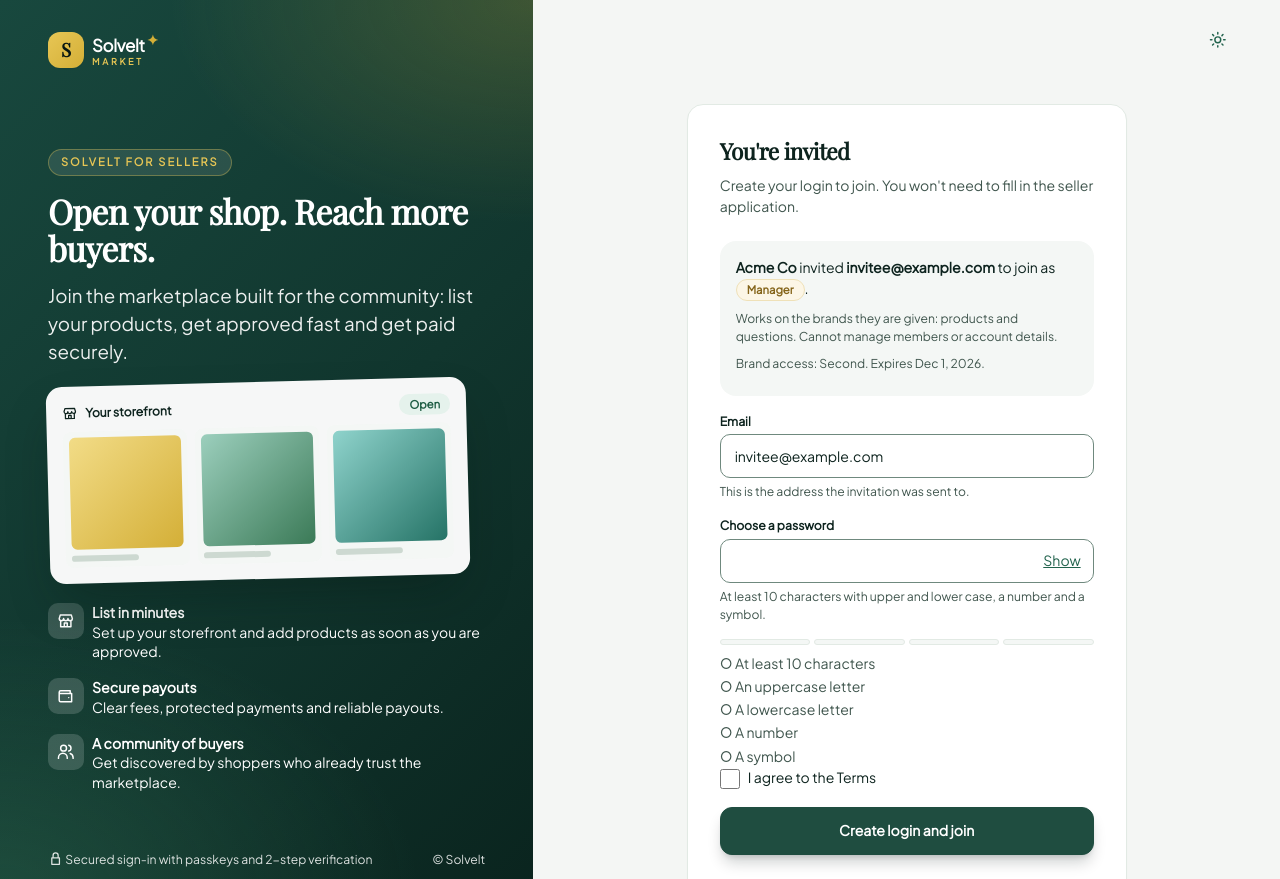
Test: invitation pages › signed out: existing login is sent to sign in and back; decline is possible
Type "Tr1cky-Horse-Battery!" into the password field labelled "Choose a password" at (907,561), box [720,539,1094,583]
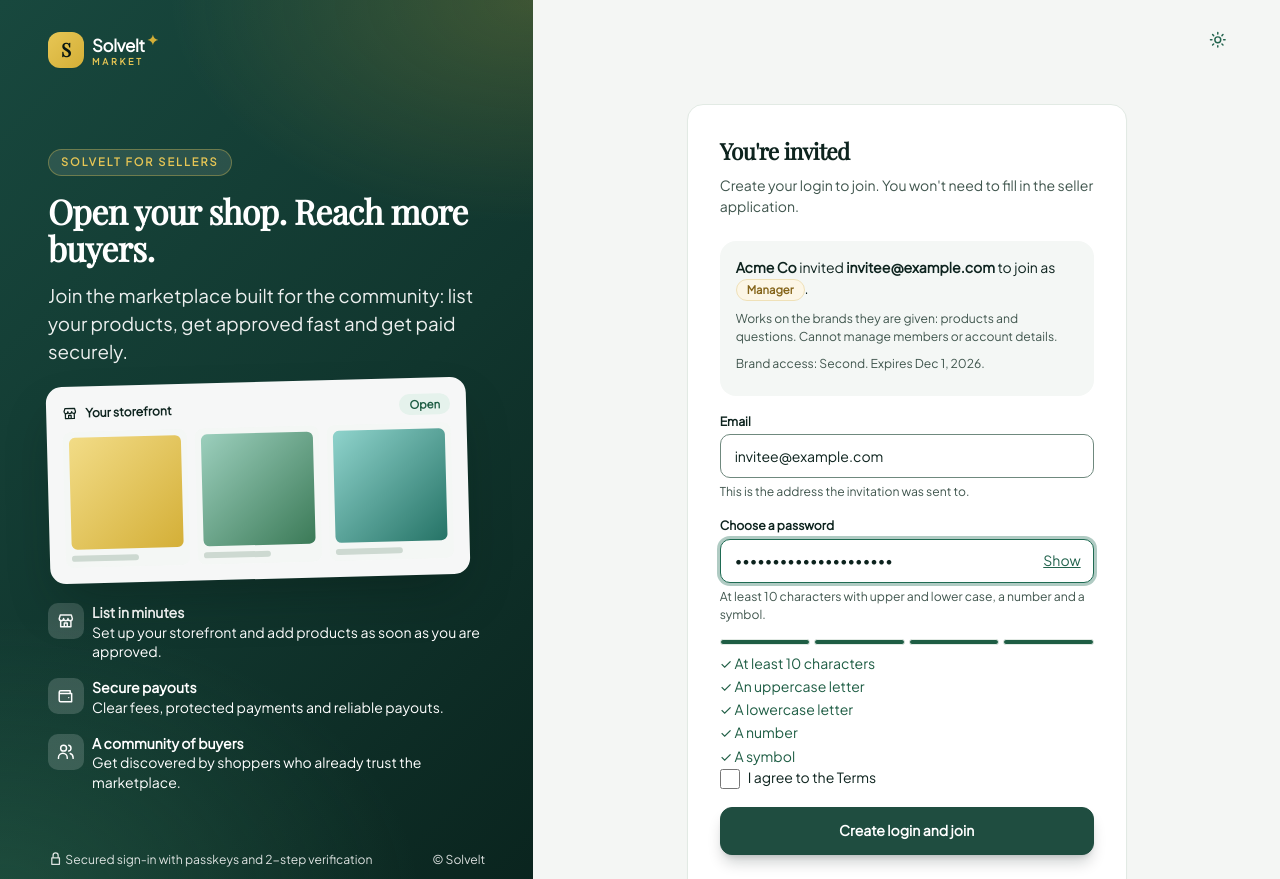
Click the checkbox labelled "I agree to the Terms" at (730,779), box [720,769,740,789]
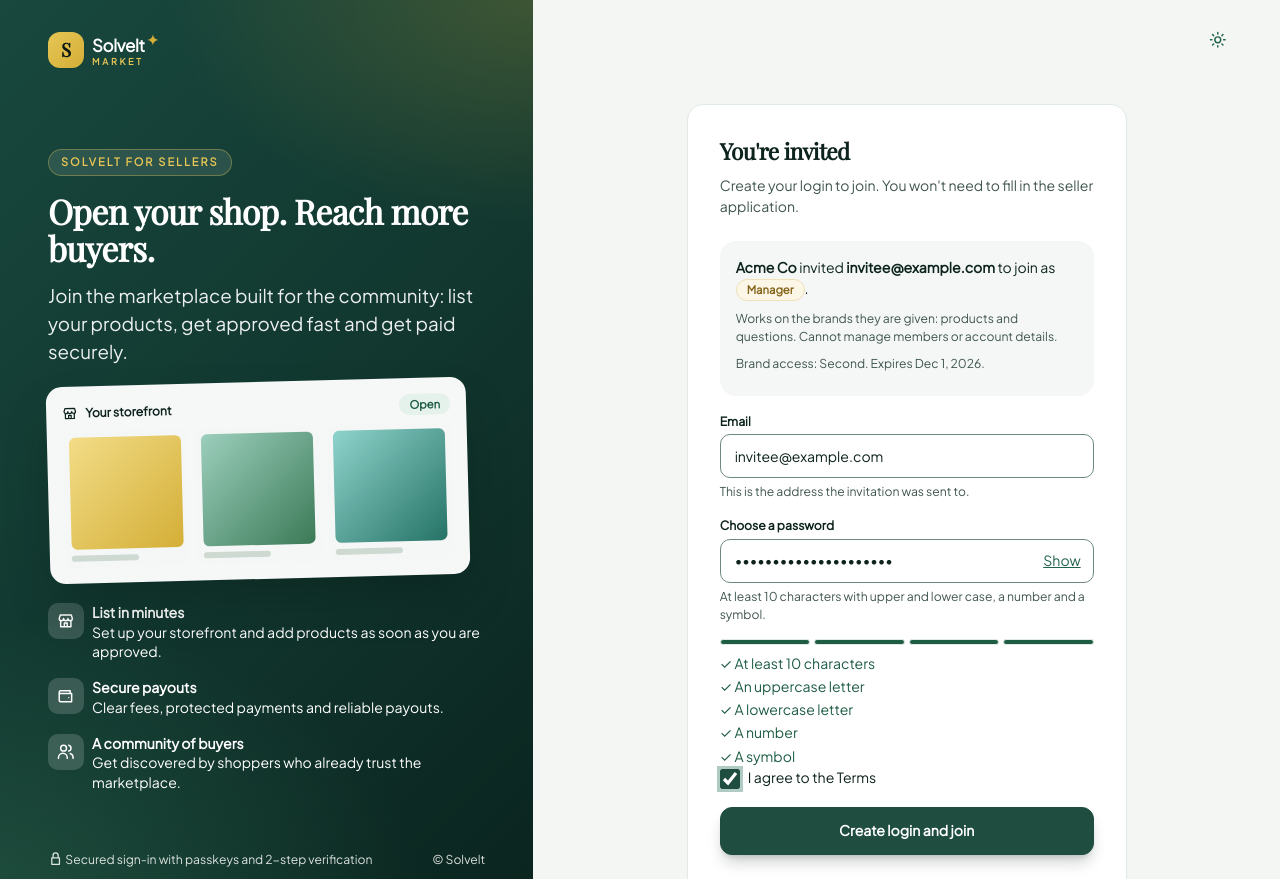
Click the button "Create login and join" at (907,831), box [720,807,1094,855]
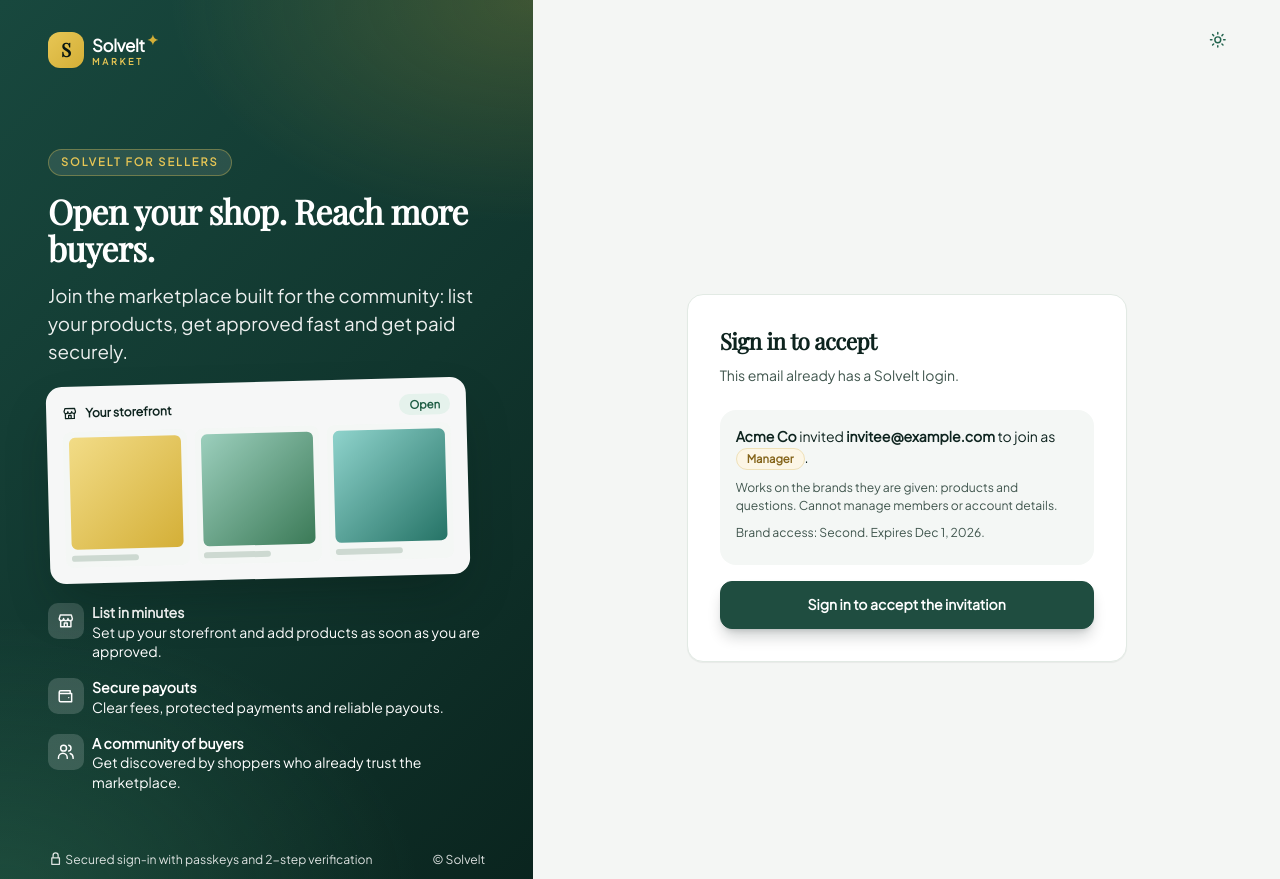
Now the link "Sign in to accept the invitation" is shown, box [720,581,1094,629]
